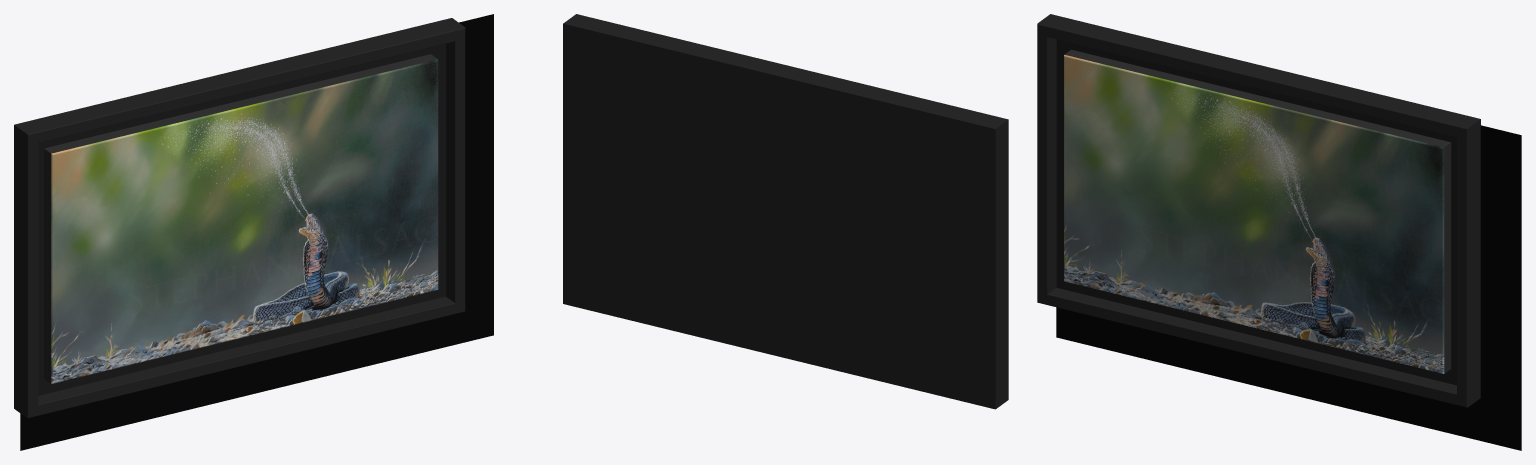
Rendered from tableau-serpent-cobra-classique-8d8975f9.glb.
3 views of the same model, side by side, from view 1: azimuth 30°, elevation 25°; view 2: azimuth 150°, elevation 25°; view 3: azimuth 330°, elevation 25° (orthographic).
Visible parts, largest first — view 1: Painting; view 2: Painting; view 3: Painting.
Boxes of the visible parts, <box> form: Painting: <box>14,14,493,450</box>; Painting: <box>563,14,1008,409</box>; Painting: <box>1037,14,1521,450</box>.
Size of the model in its own units: 0.806 by 0.526 by 0.04.
Materials: 5 (3 with a texture image).
